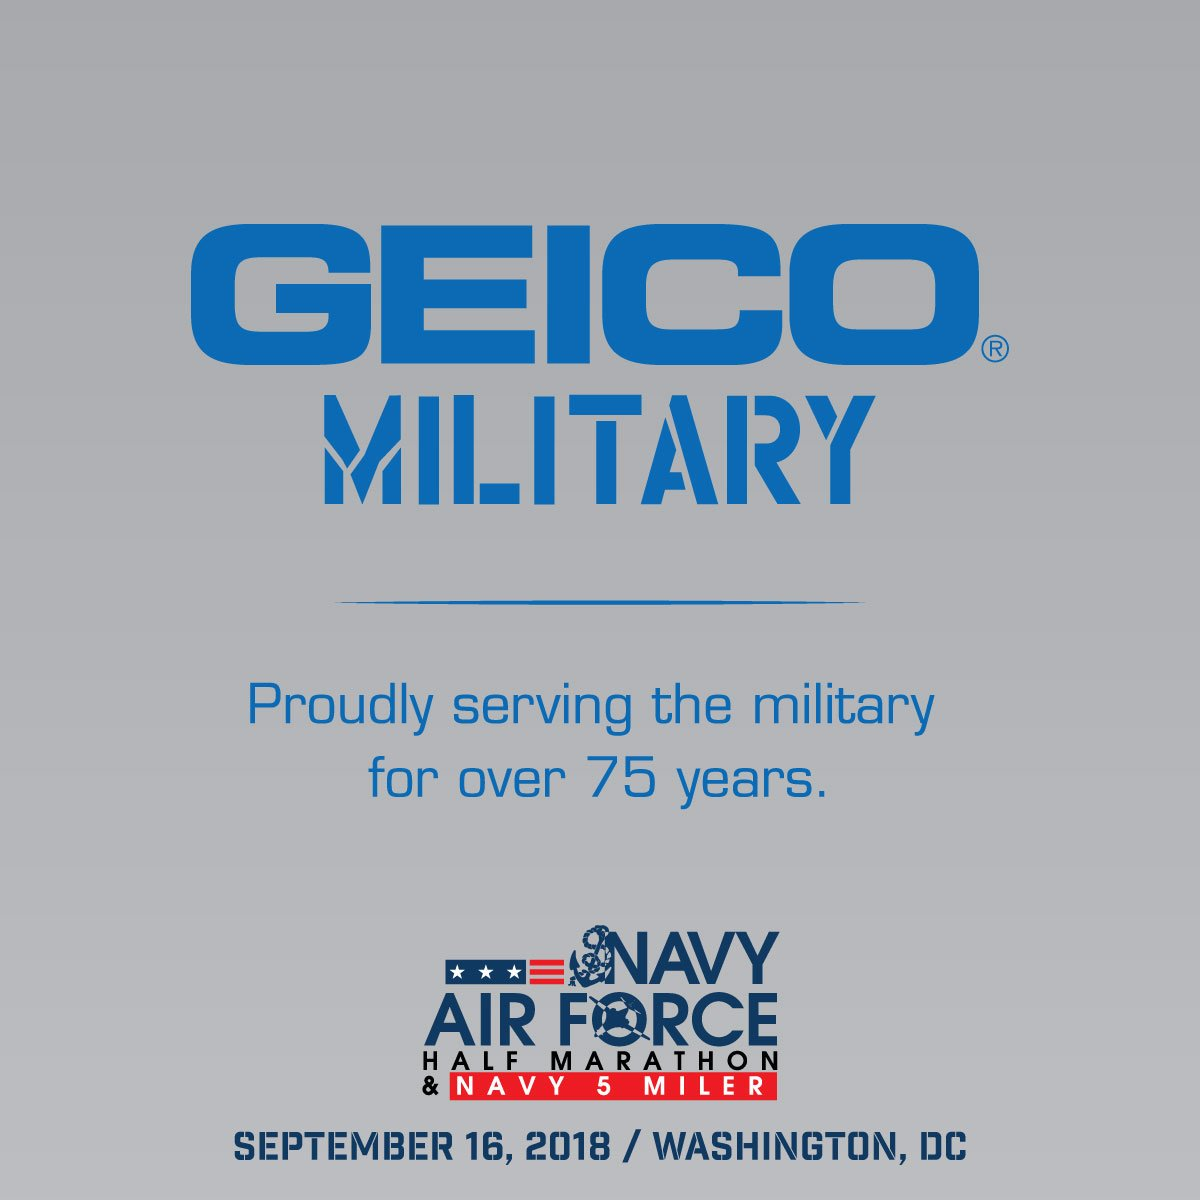geico: (191, 214, 1015, 380)
